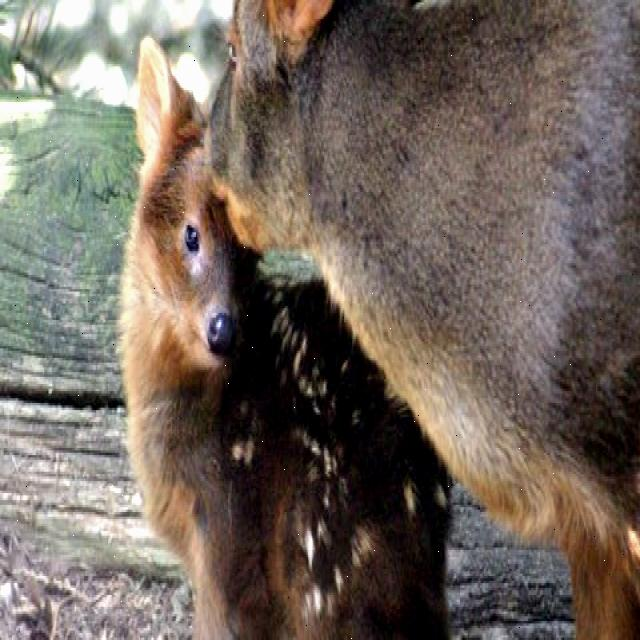deer: (105, 33, 252, 385)
